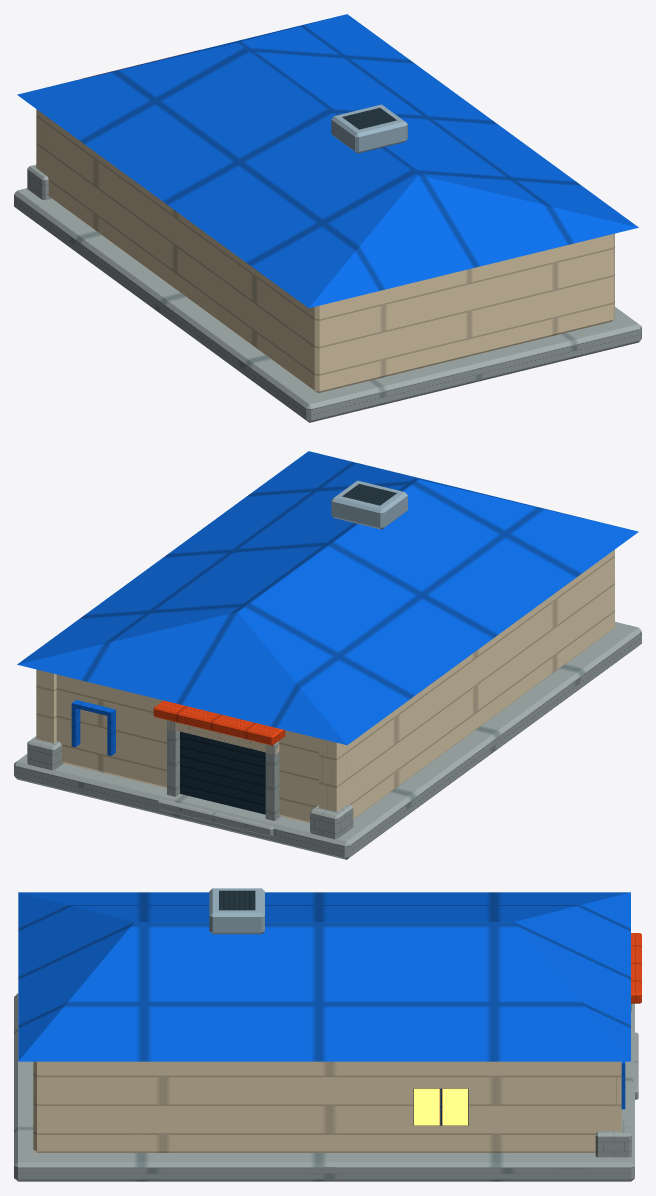
File: bld-harbor-store-2x3.glb
3 views of the same model, one above another, from view 1: azimuth 30°, elevation 25°; view 2: azimuth 150°, elevation 25°; view 3: azimuth 270°, elevation 25° (orthographic). The views are drawn at different scales.
Visible parts, largest first — view 1: bld-harbor-store-2x3; view 2: bld-harbor-store-2x3; view 3: bld-harbor-store-2x3.
Part boxes in pixels (<box>): bld-harbor-store-2x3: <box>14,14,641,422</box>; bld-harbor-store-2x3: <box>14,451,641,859</box>; bld-harbor-store-2x3: <box>14,888,641,1181</box>.
Size of the model in its own units: 1.9 by 1.01 by 2.93.
1 material, 1 textured.
